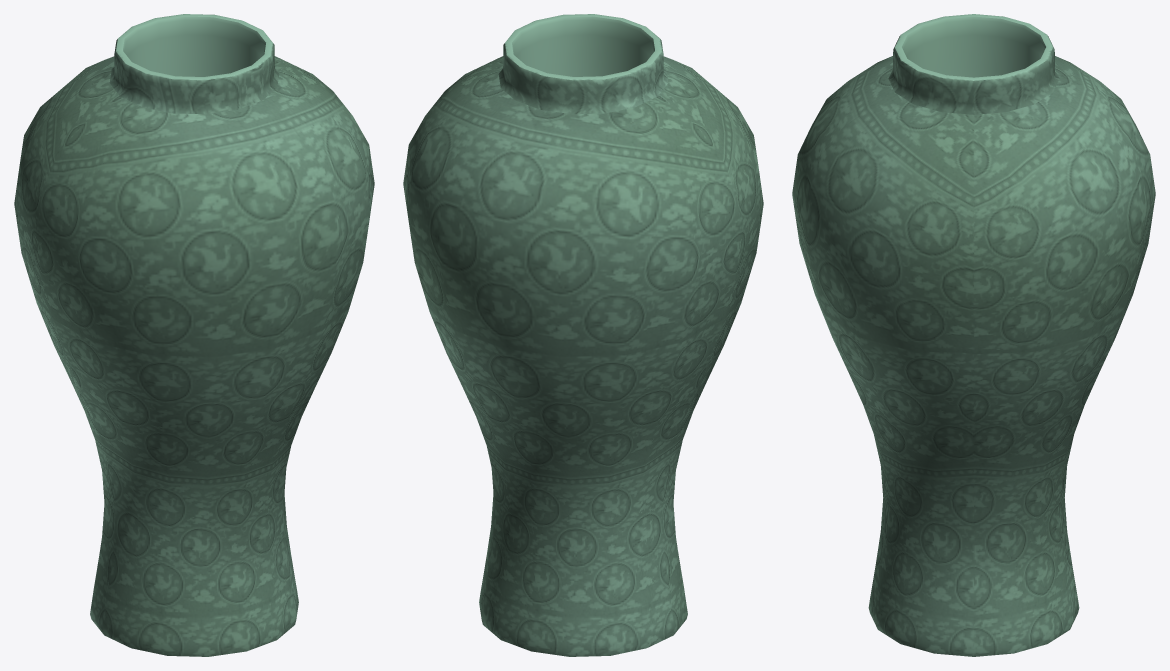
The model's file is ceramic02.fbx.
3 renders of one model, left to right at view 1: azimuth 30°, elevation 25°; view 2: azimuth 150°, elevation 25°; view 3: azimuth 270°, elevation 25°, orthographic.
Parts seen in each view (by area): view 1: ceramic02_low; view 2: ceramic02_low; view 3: ceramic02_low.
Boxes of the visible parts, bbox=[...] form: ceramic02_low: bbox=[14, 14, 374, 656]; ceramic02_low: bbox=[403, 14, 763, 656]; ceramic02_low: bbox=[792, 14, 1155, 656].
Bounding box in the file's own units: 30.01 × 51.76 × 30.01.
